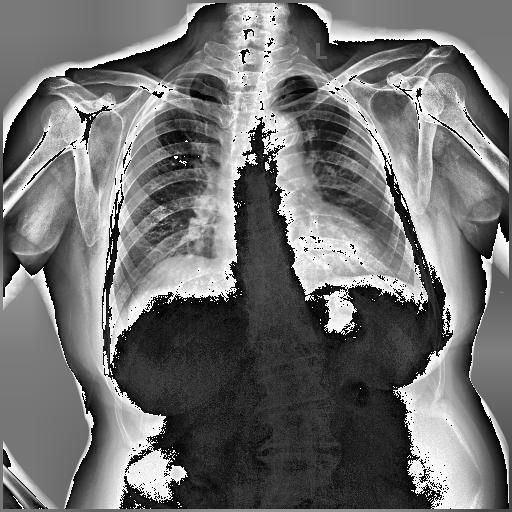0- Aortic enlargement: (265, 113, 305, 163), (254, 109, 302, 149), (264, 110, 300, 147)
11- Pleural thickening: (324, 78, 358, 112), (148, 76, 179, 112), (148, 79, 174, 109), (330, 85, 358, 110), (146, 89, 170, 112)
3- Cardiomegaly: (210, 220, 393, 282), (212, 214, 392, 277), (212, 222, 394, 274)
